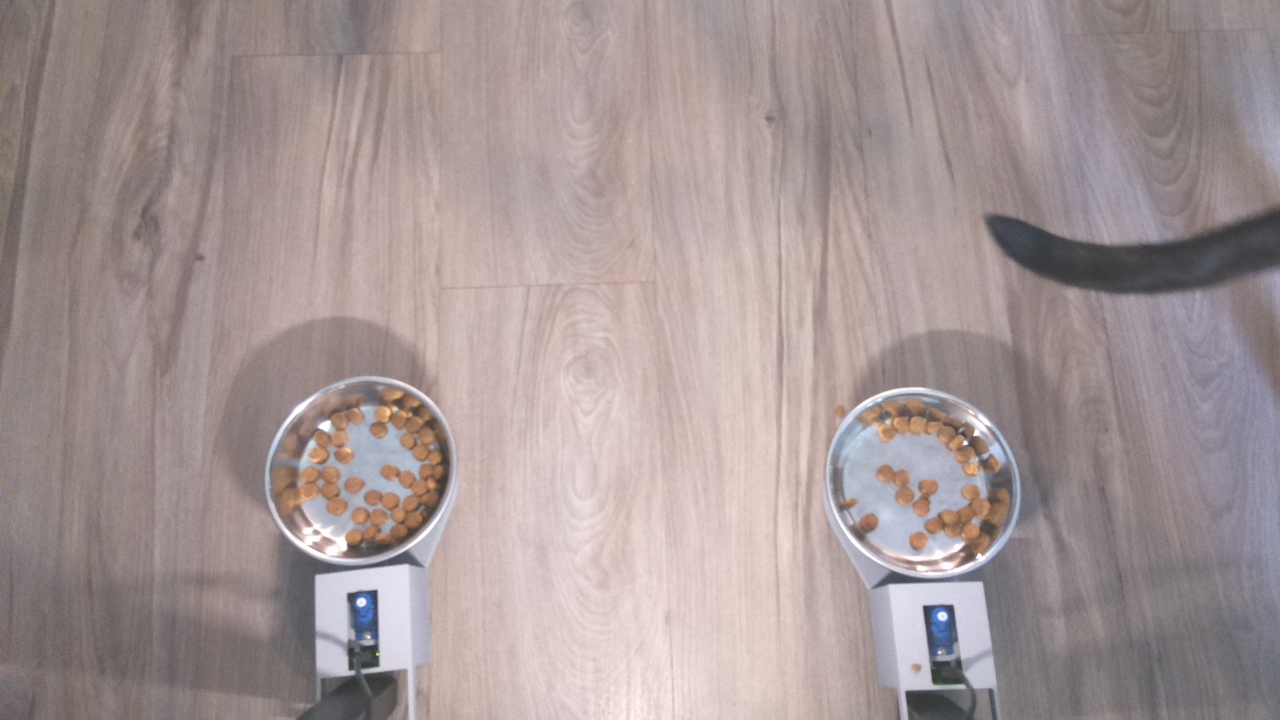open_bowl: (819, 383, 1023, 584), (257, 372, 457, 568)
